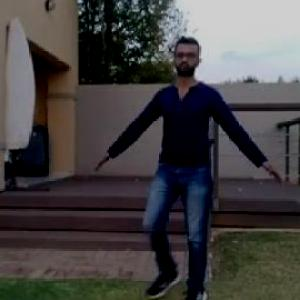land: (116, 59, 266, 288)
